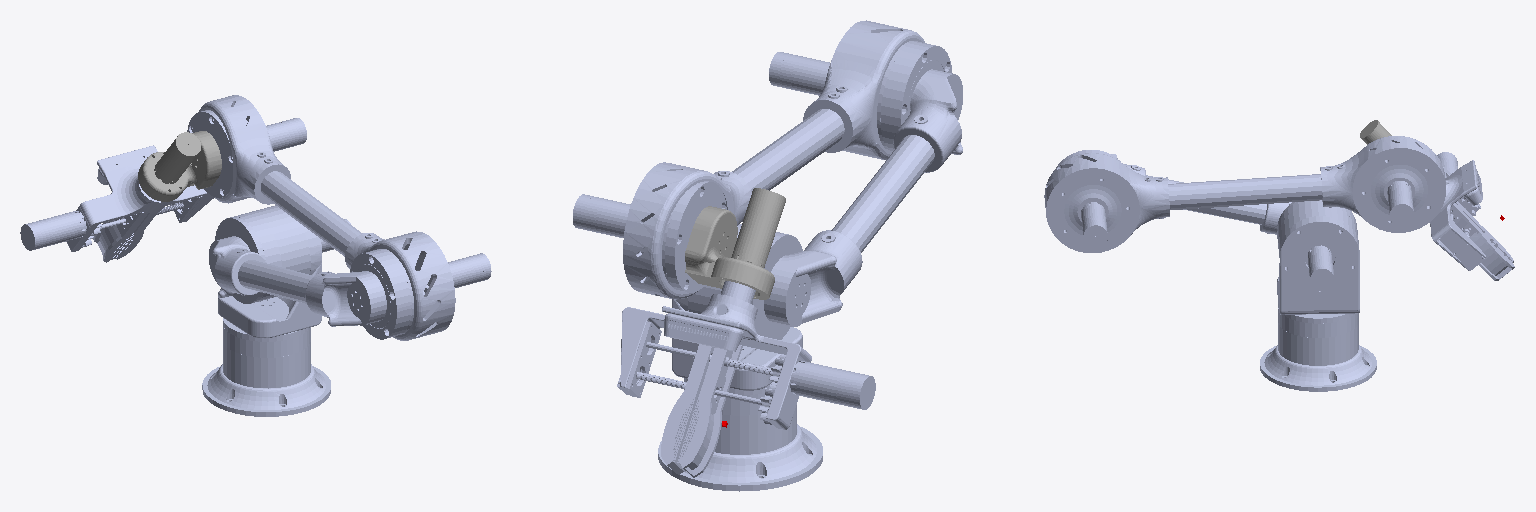
robot.urdf — new_manipulator:
<?xml version="1.0"?>

<robot name="new_manipulator">
  <link name="world"/>
    <joint name="base_joint" type="fixed">
       <parent link="world"/>
       <child link="base_link"/>
       <origin rpy="0 0 0" xyz="0.0 0.0 0.0"/>
    </joint>
  <link
    name="base_link">
    <inertial>
      <origin
        xyz="-4.43954839834948E-07 1.95574043973523E-07 0.0440575497912232"
        rpy="0 0 0" />
      <mass
        value="1.34805797919581" />
      <inertia
        ixx="0.00183694205703787"
        ixy="5.0361464147788E-10"
        ixz="-5.92029157041244E-09"
        iyy="0.00183693853196773"
        iyz="4.98996166768538E-09"
        izz="0.0033883673477115" />
    </inertial>
    <visual>
      <origin
        xyz="0 0 0"
        rpy="0 0 0" />
      <geometry>
        <mesh
          filename="package://new_manipulator/meshes/base_link.STL" />
      </geometry>
      <material
        name="">
        <color
          rgba="0.792156862745098 0.819607843137255 0.933333333333333 1" />
      </material>
    </visual>
    <collision>
      <origin
        xyz="0 0 0"
        rpy="0 0 0" />
      <geometry>
        <mesh
          filename="package://new_manipulator/meshes/base_link.STL" />
      </geometry>
    </collision>
  </link>
  <link
    name="link_1">
    <inertial>
      <origin
        xyz="0.0110500885540994 0.000490304989948245 0.178917154368919"
        rpy="0 0 0" />
      <mass
        value="1.72791251451532" />
      <inertia
        ixx="0.00405909858433948"
        ixy="3.88748531333619E-05"
        ixz="-0.000594874773801282"
        iyy="0.00318681108482776"
        iyz="-2.64513859322088E-05"
        izz="0.00260490202469402" />
    </inertial>
    <visual>
      <origin
        xyz="0 0 0"
        rpy="0 0 0" />
      <geometry>
        <mesh
          filename="package://new_manipulator/meshes/link_1.STL" />
      </geometry>
      <material
        name="">
        <color
          rgba="0.792156862745098 0.819607843137255 0.933333333333333 1" />
      </material>
    </visual>
    <collision>
      <origin
        xyz="0 0 0"
        rpy="0 0 0" />
      <geometry>
        <mesh
          filename="package://new_manipulator/meshes/link_1.STL" />
      </geometry>
    </collision>
  </link>
  <joint
    name="joint_1"
    type="revolute">
    <origin
      xyz="0 0 0"
      rpy="0 0 0" />
    <parent
      link="base_link" />
    <child
      link="link_1" />
    <axis
      xyz="0 0 1" />
    <limit
      lower="-3.14"
      upper="3.14"
      effort="0"
      velocity="0" />
  </joint>
  <link
    name="link_2">
    <inertial>
      <origin
        xyz="-0.17027759464071 0.0403800042896438 0.00767279863845977"
        rpy="0 0 0" />
      <mass
        value="0.563585271283537" />
      <inertia
        ixx="0.000360703734186374"
        ixy="0.000111701659743082"
        ixz="1.41189843579195E-11"
        iyy="0.000804395250404438"
        iyz="-7.43125516863313E-12"
        izz="0.000954580102346034" />
    </inertial>
    <visual>
      <origin
        xyz="0 0 0"
        rpy="0 0 0" />
      <geometry>
        <mesh
          filename="package://new_manipulator/meshes/link_2.STL" />
      </geometry>
      <material
        name="">
        <color
          rgba="0.792156862745098 0.819607843137255 0.933333333333333 1" />
      </material>
    </visual>
    <collision>
      <origin
        xyz="0 0 0"
        rpy="0 0 0" />
      <geometry>
        <mesh
          filename="package://new_manipulator/meshes/link_2.STL" />
      </geometry>
    </collision>
  </link>
  <joint
    name="joint_2"
    type="revolute">
    <origin
      xyz="-0.0717291734504882 -0.00318836574273278 0.204740000000002"
      rpy="1.5707963267949 0 1.61521714206045" />
    <parent
      link="link_1" />
    <child
      link="link_2" />
    <axis
      xyz="0 0 -1" />
    <limit
      lower="0"
      upper="3.14"
      effort="0"
      velocity="0" />
  </joint>
  <link
    name="link_3">
    <inertial>
      <origin
        xyz="0.127319930649459 0.25216230451183 -0.0134589515038893"
        rpy="0 0 0" />
      <mass
        value="1.88012020867171" />
      <inertia
        ixx="0.00553245606571612"
        ixy="-9.76768114159608E-05"
        ixz="2.24362816489402E-06"
        iyy="0.00232907764676428"
        iyz="8.12545637190079E-05"
        izz="0.00388219252209916" />
    </inertial>
    <visual>
      <origin
        xyz="0 0 0"
        rpy="0 0 0" />
      <geometry>
        <mesh
          filename="package://new_manipulator/meshes/link_3.STL" />
      </geometry>
      <material
        name="">
        <color
          rgba="0.792156862745098 0.819607843137255 0.933333333333333 1" />
      </material>
    </visual>
    <collision>
      <origin
        xyz="0 0 0"
        rpy="0 0 0" />
      <geometry>
        <mesh
          filename="package://new_manipulator/meshes/link_3.STL" />
      </geometry>
    </collision>
  </link>
  <joint
    name="joint_3"
    type="revolute">
    <origin
      xyz="-0.340555167924376 0.0807599999999998 0.2056"
      rpy="1.57079632679489 1.52637551152934 0" />
    <parent
      link="link_2" />
    <child
      link="link_3" />
    <axis
      xyz="0.99901355780628 -0.0444062081159649 0" />
    <limit
      lower="-6.28"
      upper="0"
      effort="0"
      velocity="0" />
  </joint>
  <link
    name="link_4">
    <inertial>
      <origin
        xyz="-0.00286295911161408 -0.0033310528321473 -0.0155644150837439"
        rpy="0 0 0" />
      <mass
        value="0.274650886544684" />
      <inertia
        ixx="0.000206617997807796"
        ixy="-9.17161275843459E-06"
        ixz="2.87691440396262E-05"
        iyy="0.00020382708602932"
        iyz="3.34799417908772E-05"
        izz="0.000169631700790225" />
    </inertial>
    <visual>
      <origin
        xyz="0 0 0"
        rpy="0 0 0" />
      <geometry>
        <mesh
          filename="package://new_manipulator/meshes/link_4.STL" />
      </geometry>
      <material
        name="">
        <color
          rgba="0.698039215686274 0.698039215686274 0.698039215686274 1" />
      </material>
    </visual>
    <collision>
      <origin
        xyz="0 0 0"
        rpy="0 0 0" />
      <geometry>
        <mesh
          filename="package://new_manipulator/meshes/link_4.STL" />
      </geometry>
    </collision>
  </link>
  <joint
    name="joint_4"
    type="revolute">
    <origin
      xyz="0.225840625490469 0.450789374227888 -0.0240273169809807"
      rpy="-1.5707963267949 0 -1.61521714206045" />
    <parent
      link="link_3" />
    <child
      link="link_4" />
    <axis
      xyz="0 0 1" />
    <limit
      lower="-3.14"
      upper="3.14"
      effort="0"
      velocity="0" />
  </joint>
  <link
    name="link_5">
    <inertial>
      <origin
        xyz="-0.0161286511466324 -0.121540549336517 -0.120240046011032"
        rpy="0 0 0" />
      <mass
        value="0.793421245273042" />
      <inertia
        ixx="0.000671724275010425"
        ixy="-2.51602478102574E-06"
        ixz="5.71344672478053E-05"
        iyy="0.00234595437058804"
        iyz="-8.95524412371202E-05"
        izz="0.00245703255566249" />
    </inertial>
    <visual>
      <origin
        xyz="0 0 0"
        rpy="0 0 0" />
      <geometry>
        <mesh
          filename="package://new_manipulator/meshes/link_5.STL" />
      </geometry>
      <material
        name="">
        <color
          rgba="0.792156862745098 0.819607843137255 0.933333333333333 1" />
      </material>
    </visual>
    <collision>
      <origin
        xyz="0 0 0"
        rpy="0 0 0" />
      <geometry>
        <mesh
          filename="package://new_manipulator/meshes/link_5.STL" />
      </geometry>
    </collision>
  </link>
  <joint
    name="joint_5"
    type="revolute">
    <origin
      xyz="0.0406026824799595 0.0472515838404573 0.00419999999999965"
      rpy="0 1.52637551152934 0" />
    <parent
      link="link_4" />
    <child
      link="link_5" />
    <axis
      xyz="-0.0289407892178395 -0.758452389092401 -0.651085558279" />
    <limit
      lower="-3.14"
      upper="3.14"
      effort="0"
      velocity="0" />
  </joint>
  <link name="fake_link">
  <inertial>
    <origin xyz="0 0 0" rpy="0 0 0"/>
    <mass value="0.001"/>
    <inertia 
      ixx="0.000001" 
      ixy="0" 
      ixz="0" 
      iyy="0.000001" 
      iyz="0" 
      izz="0.000001"/>
  </inertial>
  <!-- Visual element - small, almost invisible cube -->
  <visual>
    <origin xyz="0 0 0" rpy="0 0 0"/>
    <geometry>
      <box size="0.005 0.005 0.005"/>  <!-- 5mm cube -->
    </geometry>
    <material name="fake_link_material">
      <color rgba="1.0 0.0 0.0 0.1"/>  <!-- Red with 10% opacity - almost invisible -->
    </material>
  </visual>
  
  <!-- Collision element - same small cube -->
  <collision>
    <origin xyz="0 0 0" rpy="0 0 0"/>
    <geometry>
      <box size="0.005 0.005 0.005"/>  <!-- Same 5mm cube -->
    </geometry>
  </collision>
</link>
  <joint name="fake_joint" type="revolute">
  <parent link="link_5"/>
  <child link="fake_link"/>
  <origin xyz="-0.06 -0.175 -0.2" rpy="-0.3 2.355 1.37"/>
  <axis xyz="0 0 1"/>  <!-- Yaw axis -->
  <limit lower="-3.14159" upper="3.14159" effort="0" velocity="0"/>
</joint>


  
  
  <link
    name="link_6">
    <inertial>
      <origin
        xyz="0.0108654286467037 8.14608749427626E-07 -0.0432633009650766"
        rpy="0 0 0" />
      <mass
        value="0.015648613105591" />
      <inertia
        ixx="1.3023223565484E-05"
        ixy="-3.28837477065242E-10"
        ixz="2.89260541241974E-06"
        iyy="1.37500799513683E-05"
        iyz="2.83301118109962E-10"
        izz="2.23321010587839E-06" />
    </inertial>
    <visual>
      <origin
        xyz="0 0 0"
        rpy="0 0 0" />
      <geometry>
        <mesh
          filename="package://new_manipulator/meshes/link_6.STL" />
      </geometry>
      <material
        name="">
        <color
          rgba="0.792156862745098 0.819607843137255 0.933333333333333 1" />
      </material>
    </visual>
    <collision>
      <origin
        xyz="0 0 0"
        rpy="0 0 0" />
      <geometry>
        <mesh
          filename="package://new_manipulator/meshes/link_6.STL" />
      </geometry>
    </collision>
  </link>
  <joint
    name="joint_6"
    type="revolute">
    <origin
      xyz="-0.00126816406153663 -0.143195811060646 -0.123111459477163"
      rpy="-3.14159265358979 1.28032965574779 3.14159265358979" />
    <parent
      link="link_5" />
    <child
      link="link_6" />
    <axis
      xyz="0.243570815678046 0 -0.969883115509251" />
    <limit
      lower="0"
      upper="10"
      effort="0"
      velocity="0" />
  </joint>
  <link
    name="link_7">
    <inertial>
      <origin
        xyz="-0.0090100621942418 -6.67420022387732E-07 -0.0358850579570688"
        rpy="0 0 0" />
      <mass
        value="0.0157888075275909" />
      <inertia
        ixx="1.29943702003999E-05"
        ixy="6.88853386935521E-11"
        ixz="-2.88493495007699E-06"
        iyy="1.37197558455964E-05"
        iyz="2.55607088581921E-10"
        izz="2.23295306978442E-06" />
    </inertial>
    <visual>
      <origin
        xyz="0 0 0"
        rpy="0 0 0" />
      <geometry>
        <mesh
          filename="package://new_manipulator/meshes/link_7.STL" />
      </geometry>
      <material
        name="">
        <color
          rgba="0.792156862745098 0.819607843137255 0.933333333333333 1" />
      </material>
    </visual>
    <collision>
      <origin
        xyz="0 0 0"
        rpy="0 0 0" />
      <geometry>
        <mesh
          filename="package://new_manipulator/meshes/link_7.STL" />
      </geometry>
    </collision>
  </link>
  <joint
    name="joint_7"
    type="revolute">
    <origin
      xyz="-0.00228109168416107 -0.16974164467888 -0.145899454016928"
      rpy="3.14159265358979 -1.28032965574779 0" />
    <parent
      link="link_5" />
    <child
      link="link_7" />
    <axis
      xyz="0.243570815678046 0 0.969883115509251" />
    <limit
      lower="-10"
      upper="0"
      effort="0"
      velocity="0" />
    <mimic
      joint="joint_6"
      multiplier="-1"
      offset="0" />
  </joint>
  <link
    name="link_8">
    <inertial>
      <origin
        xyz="0.0358256039708998 -0.0445043988409441 0.0143492587166081"
        rpy="0 0 0" />
      <mass
        value="0.0572194405110706" />
      <inertia
        ixx="5.62419958813598E-05"
        ixy="3.59880864635103E-05"
        ixz="-1.17441450058187E-05"
        iyy="4.09971162464738E-05"
        iyz="1.25588916053587E-05"
        izz="8.76354462681182E-05" />
    </inertial>
    <visual>
      <origin
        xyz="0 0 0"
        rpy="0 0 0" />
      <geometry>
        <mesh
          filename="package://new_manipulator/meshes/link_8.STL" />
      </geometry>
      <material
        name="">
        <color
          rgba="0.792156862745098 0.819607843137255 0.933333333333333 1" />
      </material>
    </visual>
    <collision>
      <origin
        xyz="0 0 0"
        rpy="0 0 0" />
      <geometry>
        <mesh
          filename="package://new_manipulator/meshes/link_8.STL" />
      </geometry>
    </collision>
  </link>
  <joint
    name="joint_8"
    type="prismatic">
    <origin
      xyz="-0.00126816406153663 -0.143195811060646 -0.123111459477163"
      rpy="-3.14159265358979 1.28032965574779 3.14159265358979" />
    <parent
      link="link_5" />
    <child
      link="link_8" />
    <axis
      xyz="0.243570815678046 0 -0.969883115509251" />
    <limit
      lower="-0.042"
      upper="0"
      effort="0"
      velocity="0" />
    <mimic
      joint="joint_6"
      multiplier="-0.0042"
      offset="0" />
  </joint>
  <link
    name="link_9">
    <inertial>
      <origin
        xyz="-0.0154067548464904 0.0147289202001188 -0.00938576214369419"
        rpy="0 0 0" />
      <mass
        value="0.053232809936532" />
      <inertia
        ixx="4.77067601179768E-05"
        ixy="3.32704891885413E-05"
        ixz="6.1555611459591E-06"
        iyy="3.6515124816134E-05"
        iyz="-5.53805479239937E-06"
        izz="8.06111901253873E-05" />
    </inertial>
    <visual>
      <origin
        xyz="0 0 0"
        rpy="0 0 0" />
      <geometry>
        <mesh
          filename="package://new_manipulator/meshes/link_9.STL" />
      </geometry>
      <material
        name="">
        <color
          rgba="0.792156862745098 0.819607843137255 0.933333333333333 1" />
      </material>
    </visual>
    <collision>
      <origin
        xyz="0 0 0"
        rpy="0 0 0" />
      <geometry>
        <mesh
          filename="package://new_manipulator/meshes/link_9.STL" />
      </geometry>
    </collision>
  </link>
  <joint
    name="joint_9"
    type="prismatic">
    <origin
      xyz="-0.00228109168416107 -0.16974164467888 -0.145899454016928"
      rpy="3.14159265358979 -1.28032965574779 0" />
    <parent
      link="link_5" />
    <child
      link="link_9" />
    <axis
      xyz="0.243570815678046 0 0.969883115509251" />
    <limit
      lower="-0.042"
      upper="0"
      effort="0"
      velocity="0" />
    <mimic
      joint="joint_6"
      multiplier="-0.0042"
      offset="0" />
  </joint>
  
  
   <!-- ROS2 CONTROL CONFIGURATION -->
  
  <ros2_control name="GazeboSystem" type="system">
  <hardware>
    <plugin>gazebo_ros2_control/GazeboSystem</plugin>
  </hardware>
  <joint name="joint_1">
     <command_interface name="position"/>
     <state_interface name="position">
       <param name="initial_value">0.0</param>
      </state_interface>
      <state_interface name="velocity"/>
   </joint>
   
   <joint name="joint_2">
     <command_interface name="position"/>
     <state_interface name="position">
       <param name="initial_value">0.0</param>
      </state_interface>
      <state_interface name="velocity"/>
   </joint>
       
  <joint name="joint_3">
     <command_interface name="position"/>
     <state_interface name="position">
       <param name="initial_value">0.0</param>
      </state_interface>
      <state_interface name="velocity"/>
   </joint>
   
   <joint name="joint_4">
     <command_interface name="position"/>
     <state_interface name="position">
       <param name="initial_value">0.0</param>
      </state_interface>
      <state_interface name="velocity"/>
   </joint>
   
   <joint name="joint_5">
     <command_interface name="position"/>
     <state_interface name="position">
       <param name="initial_value">0.0</param>
      </state_interface>
      <state_interface name="velocity"/>
   </joint>
  <joint name="fake_joint">
     <command_interface name="position"/>
     <state_interface name="position">
       <param name="initial_value">0.0</param>
      </state_interface>
      <state_interface name="velocity"/>
   </joint>
   
   <joint name="joint_6">
     <command_interface name="position"/>
     <state_interface name="position">
       <param name="initial_value">0.0</param>
      </state_interface>
      <state_interface name="velocity"/>
   </joint>
   
   <joint name="joint_7">
     <!-- Remove command interface for mimic joint -->
     <state_interface name="position">
       <param name="initial_value">0.0</param>
     </state_interface>
     <param name="mimic">joint_6</param>
     <param name="multiplier">-1</param>
     <state_interface name="velocity"/>
   </joint>
   
   <joint name="joint_8">
     <!-- Remove command interface for mimic joint -->
     <state_interface name="position">
       <param name="initial_value">0.0</param>
     </state_interface>
     <param name="mimic">joint_6</param>
     <param name="multiplier">-0.01</param>
     <state_interface name="velocity"/>
   </joint>
   
   <joint name="joint_9">
     <!-- Remove command interface for mimic joint -->
     <state_interface name="position">
       <param name="initial_value">0.0</param>
     </state_interface>
     <param name="mimic">joint_6</param>
     <param name="multiplier">-0.01</param>
     <state_interface name="velocity"/>
   </joint>
</ros2_control>

<!-- GAZEBO PLUGINS -->

<gazebo>
    <plugin filename="libgazebo_ros2_control.so" name="gazebo_ros2_control">
<parameters>/home/devika/new_manipulator/src/new_manipulator/config/my_controllers.yaml</parameters>
<controller_manager_node_name>controller_manager</controller_manager_node_name>
    <ros>
      <namespace>/</namespace>
    </ros>
    </plugin>
</gazebo>
</robot>

--- Facts derived from the render (not from the file) ---
Views: 3 orthographic renders of the robot side by side, from view 1: azimuth 30°, elevation 25°; view 2: azimuth 150°, elevation 25°; view 3: azimuth 270°, elevation 25°.
Robot: new_manipulator — 12 links, 11 joints (8 revolute, 2 prismatic, 1 fixed); root link world; default pose: every joint at zero.
Visible links, largest first — view 1: link_3, base_link, link_2, link_1, link_5, link_4, link_9; view 2: link_3, link_2, link_5, base_link, link_4, link_1, link_9, link_8, link_7, link_6; view 3: link_3, link_1, base_link, link_5, link_2, link_8.
Link boxes in pixels (left/top/right/bottom): link_3: left=187, top=95, right=491, bottom=340; base_link: left=202, top=318, right=330, bottom=416; link_2: left=209, top=234, right=390, bottom=328; link_1: left=215, top=205, right=350, bottom=338; link_5: left=20, top=145, right=214, bottom=251; link_4: left=138, top=131, right=221, bottom=201; link_9: left=93, top=212, right=147, bottom=262; link_3: left=573, top=20, right=952, bottom=299; link_2: left=760, top=60, right=962, bottom=331; link_5: left=617, top=281, right=875, bottom=429; base_link: left=658, top=378, right=822, bottom=491; link_4: left=685, top=188, right=785, bottom=299; link_1: left=672, top=224, right=802, bottom=390; link_9: left=677, top=345, right=742, bottom=477; link_8: left=661, top=344, right=714, bottom=474; link_7: left=636, top=368, right=775, bottom=424; link_6: left=646, top=342, right=785, bottom=385; link_3: left=1044, top=136, right=1445, bottom=252; link_1: left=1277, top=200, right=1359, bottom=314; base_link: left=1260, top=304, right=1376, bottom=391; link_5: left=1430, top=152, right=1485, bottom=270; link_2: left=1111, top=154, right=1291, bottom=234; link_8: left=1450, top=203, right=1514, bottom=280.
Size in the robot's own frame: 0.4165 by 0.7068 by 0.38 metres.
Meshes: 10 distinct files referenced, 10 mesh visuals loaded (10 binary STL).
